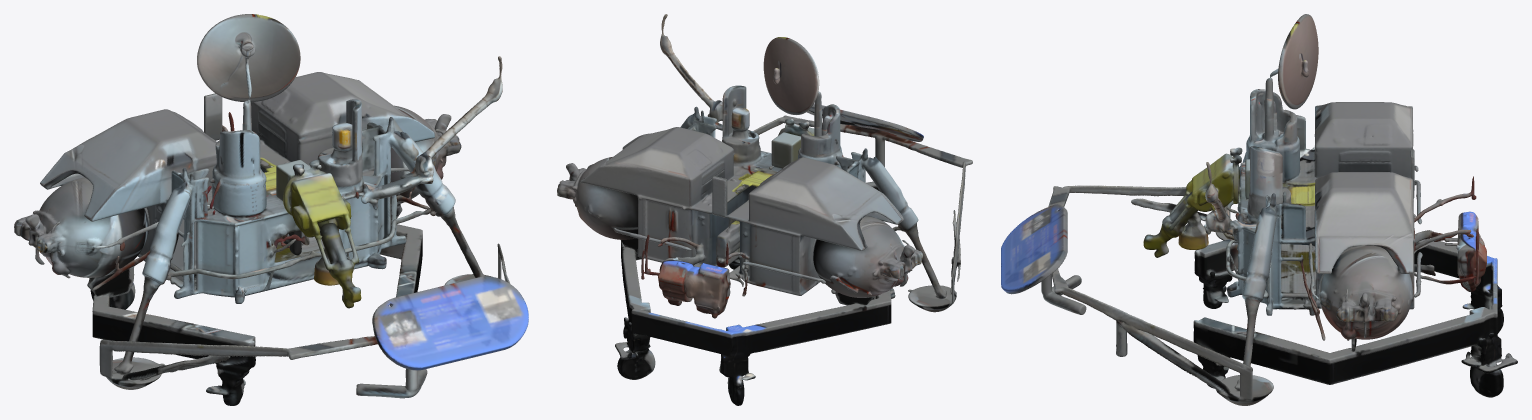
The model's file is viking_1_lander.glb.
3 renders of one model, left to right at view 1: azimuth 30°, elevation 25°; view 2: azimuth 150°, elevation 25°; view 3: azimuth 270°, elevation 25°, orthographic. The views are drawn at different scales.
Parts seen in each view (by area): view 1: tripo_node_66739327-4981-40aa-b954-1728fd1701d9; view 2: tripo_node_66739327-4981-40aa-b954-1728fd1701d9; view 3: tripo_node_66739327-4981-40aa-b954-1728fd1701d9.
Part boxes in pixels (x1,y1,x2,y2): tripo_node_66739327-4981-40aa-b954-1728fd1701d9: (14,14,528,405); tripo_node_66739327-4981-40aa-b954-1728fd1701d9: (557,14,972,405); tripo_node_66739327-4981-40aa-b954-1728fd1701d9: (1001,14,1517,405).
Bounding box in the file's own units: 0.8808 × 0.7191 × 1.
1 material, 1 textured.
